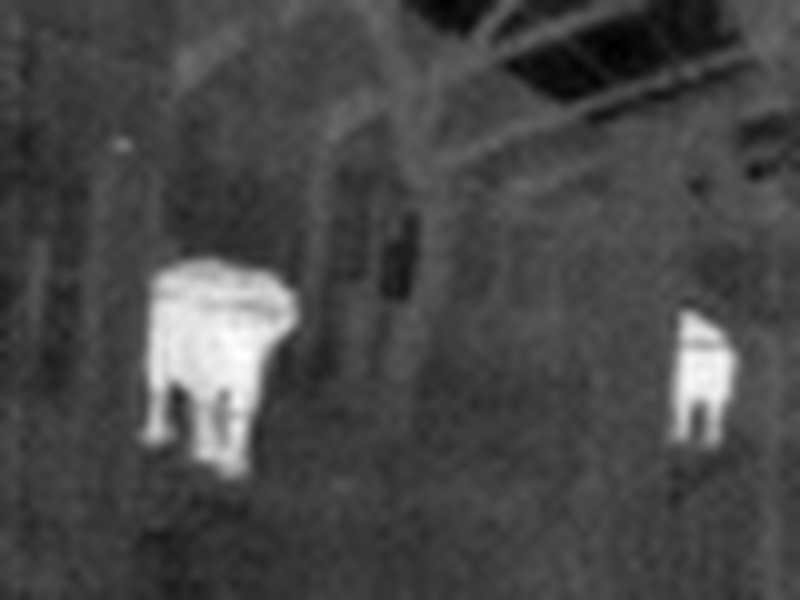elephant: (130, 255, 294, 463), (634, 296, 746, 462)
